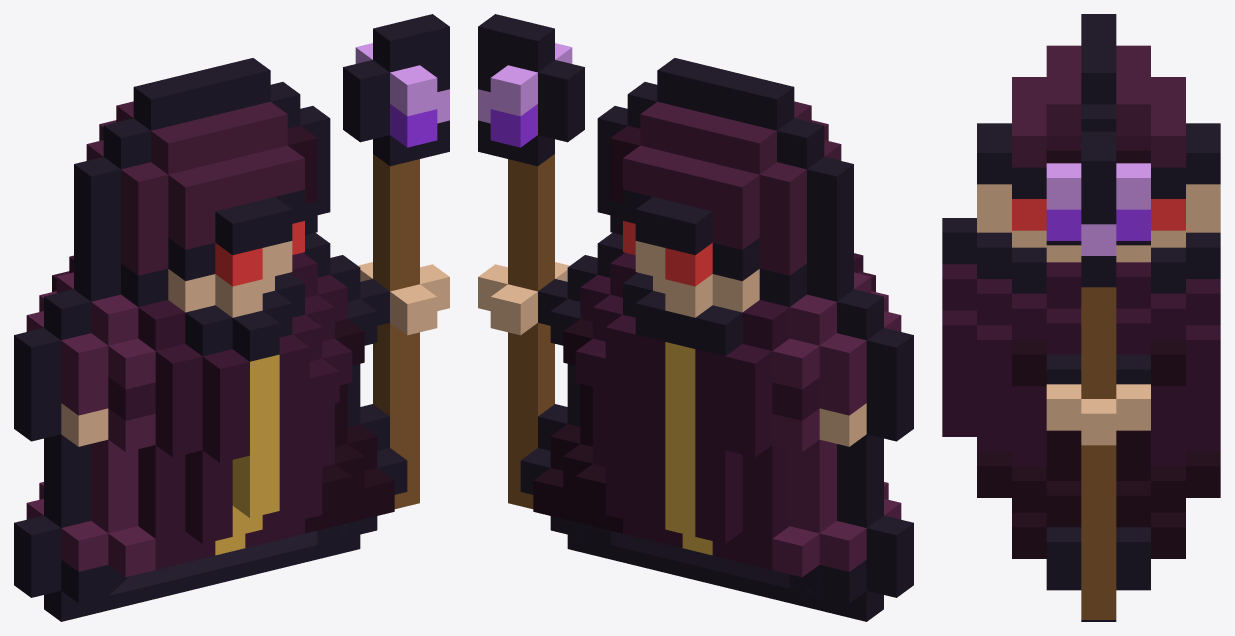
The model's file is warlock.glb.
3 views of the same model, side by side, from view 1: azimuth 30°, elevation 25°; view 2: azimuth 150°, elevation 25°; view 3: azimuth 270°, elevation 25° (orthographic).
Parts seen in each view (by area): view 1: f0, f4, f2; view 2: f0, f2, f4; view 3: f0, f2, f4.
Part boxes in pixels (left/top/right/bottom): f0: left=14, top=14, right=449, bottom=613; f4: left=31, top=348, right=317, bottom=595; f2: left=31, top=407, right=394, bottom=621; f0: left=478, top=14, right=913, bottom=599; f2: left=533, top=327, right=896, bottom=621; f4: left=605, top=331, right=896, bottom=595; f0: left=942, top=14, right=1220, bottom=619; f2: left=1012, top=481, right=1185, bottom=621; f4: left=942, top=357, right=976, bottom=436.
Size of the model in its own units: 0.875 by 1 by 0.5.
